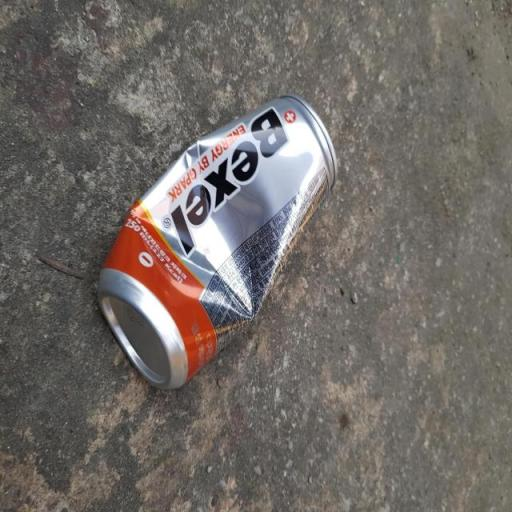metal: (77, 78, 401, 403)
